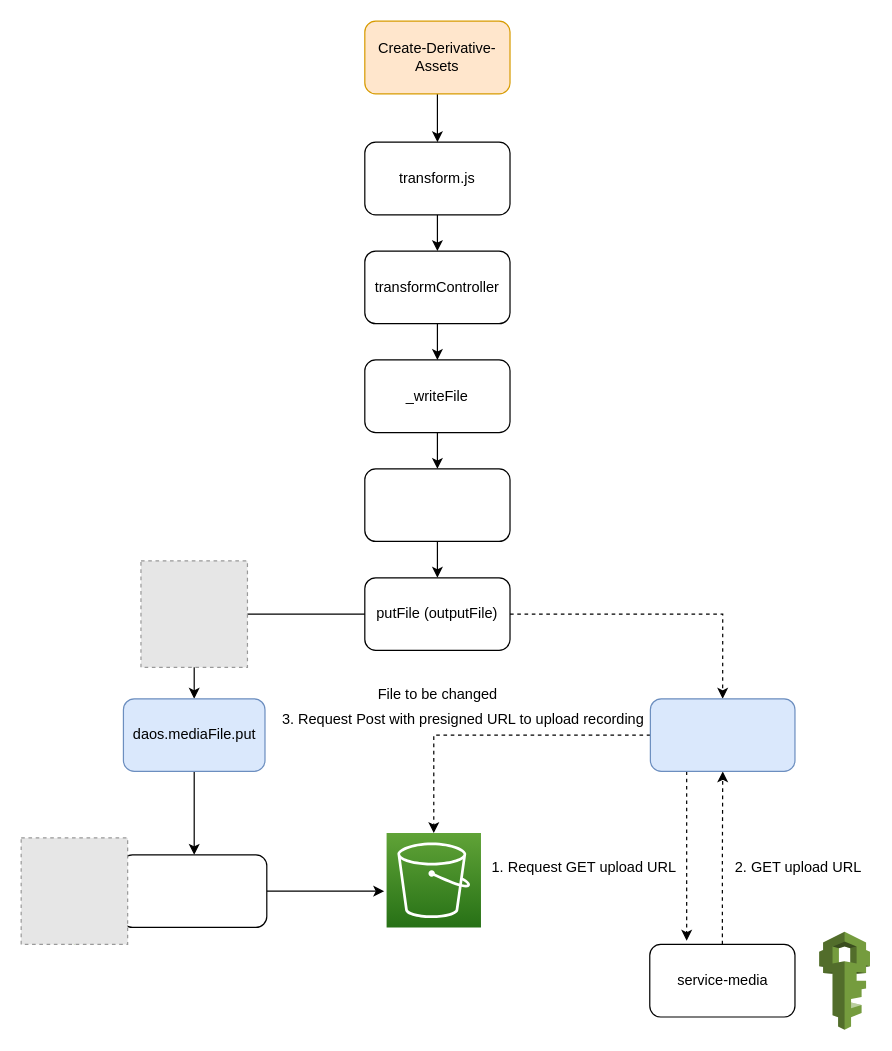
Some shapes in this 892 by 1051 pixel diagram are drawn without their labels. Grey dashed boxes stand in for pictures. Here are the shapes that lost their labels. From the top down, the centre of each, then its label:
At [437,504]: "_transformFile".
At [722,734]: "shared/s3presigned.js -w/o S3 secret info".
At [193,890]: "Current: with S3 Secret Info Directly Connect".
